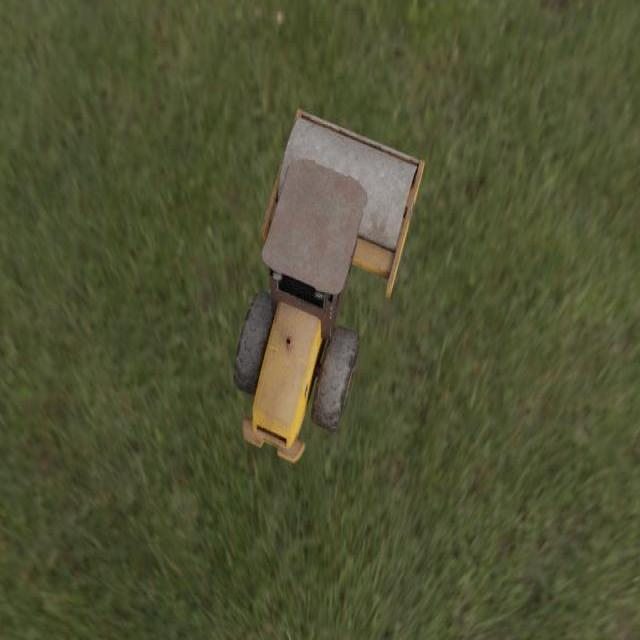Roller: (232, 108, 424, 463)
